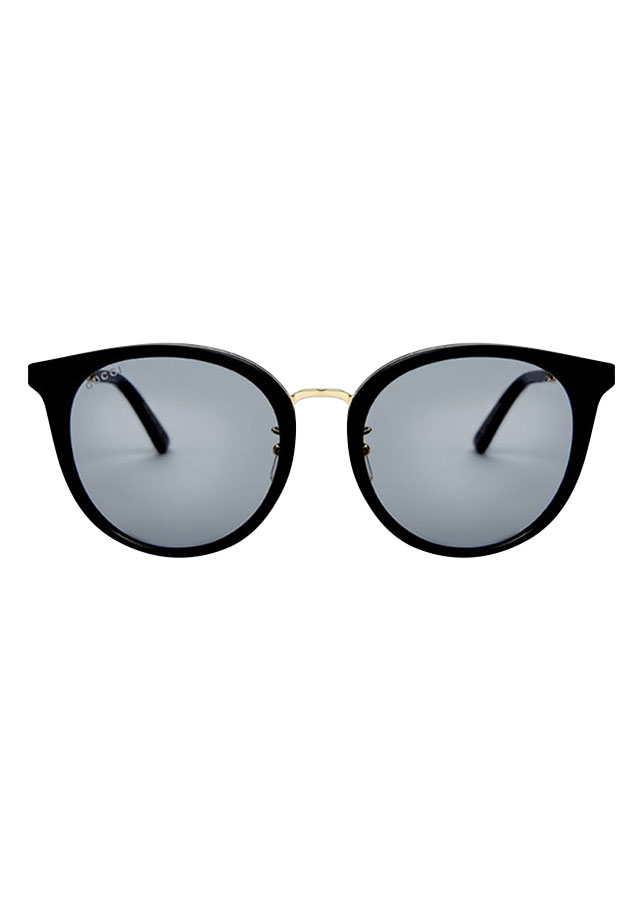Gucci: (82, 355, 127, 397)
